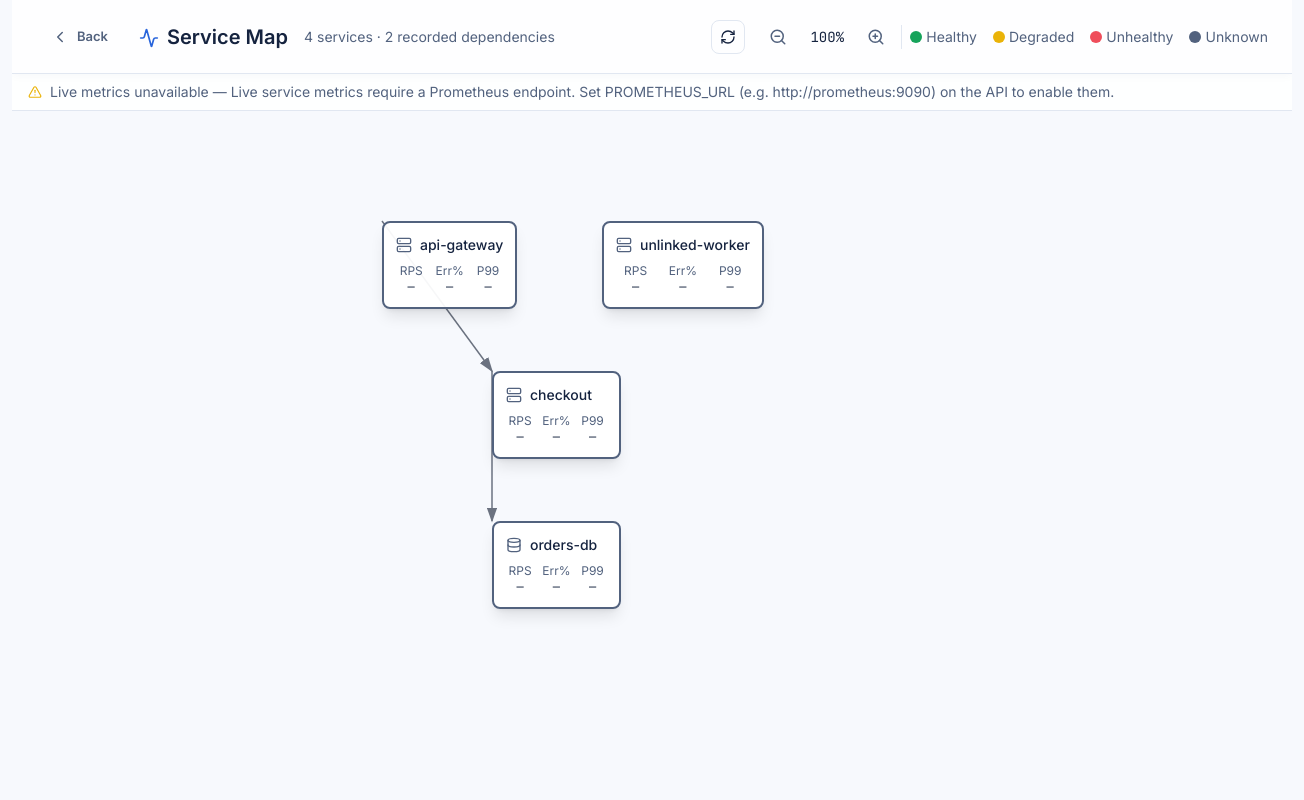
Test case: ServiceMap › shows "—" instead of 0 when there is no Prometheus, and says why
The image size is (1304, 800).
Expected: the text "Live metrics unavailable" shows "PROMETHEUS_URL", [231, 83, 1114, 100]
Unmeasured is "unknown", not a green "healthy" badge.
What coordinates should you click on to do the following:
click the text "api-gateway"
I would click on:
 (462, 245)
Its box is [420, 235, 503, 255].
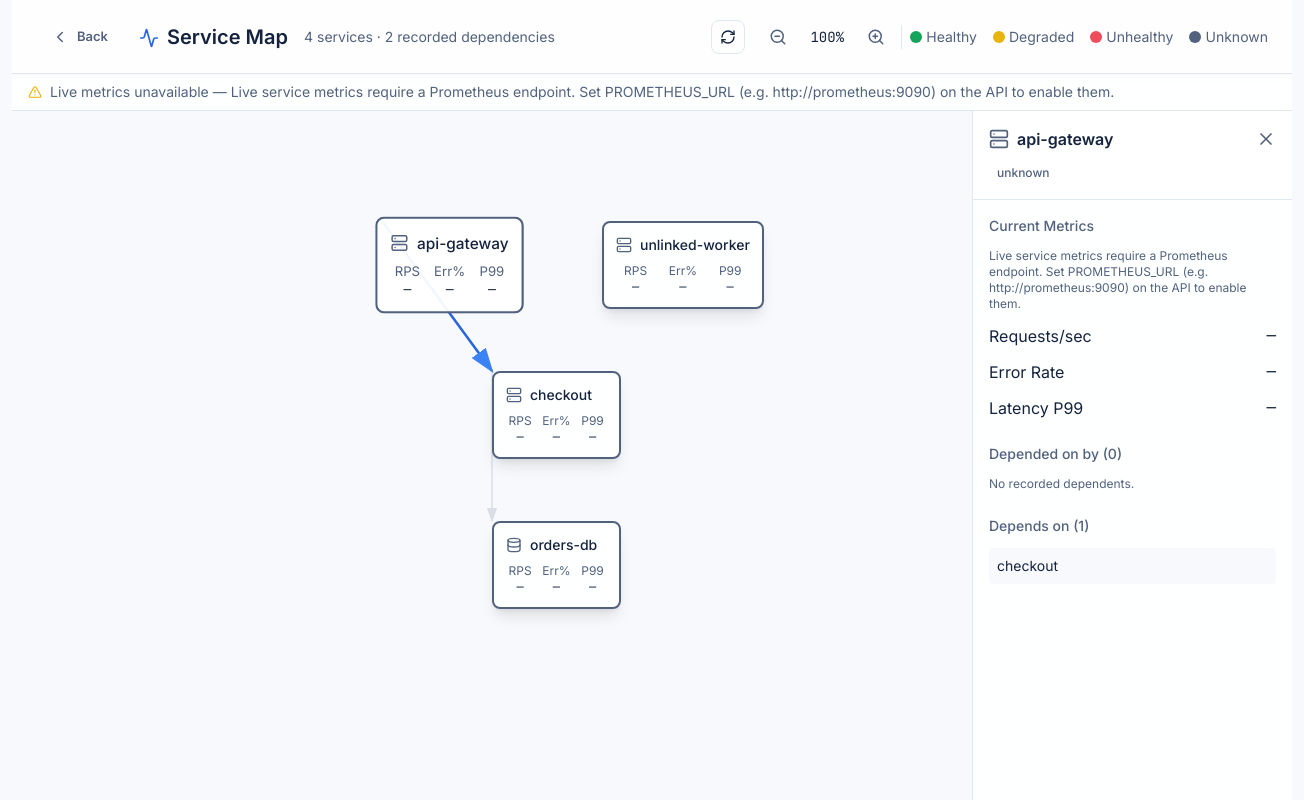
Expected: the text with test id "service-status" reads "unknown", [997, 165, 1050, 180]
